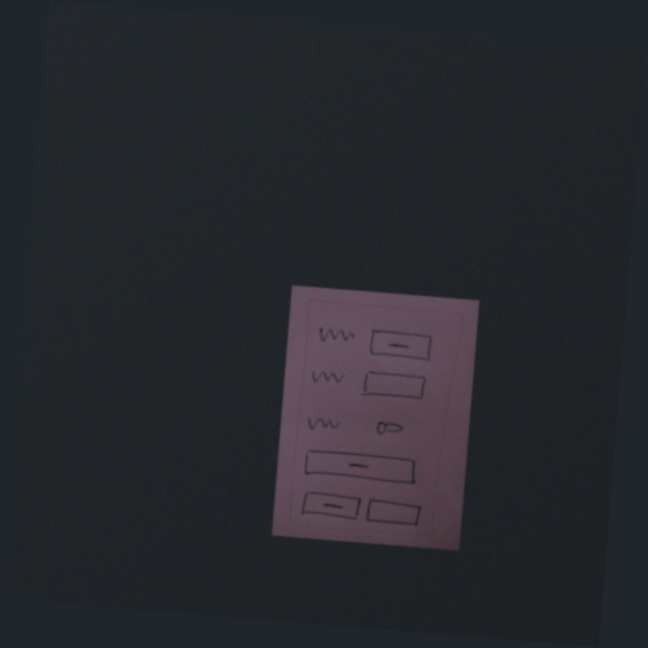button: (301, 448, 420, 486), (367, 325, 436, 366), (298, 487, 365, 523)
switch: (371, 418, 405, 440)
text: (307, 366, 350, 388), (316, 324, 358, 346), (303, 412, 345, 434)
text_input: (359, 368, 429, 403), (364, 496, 425, 529)
